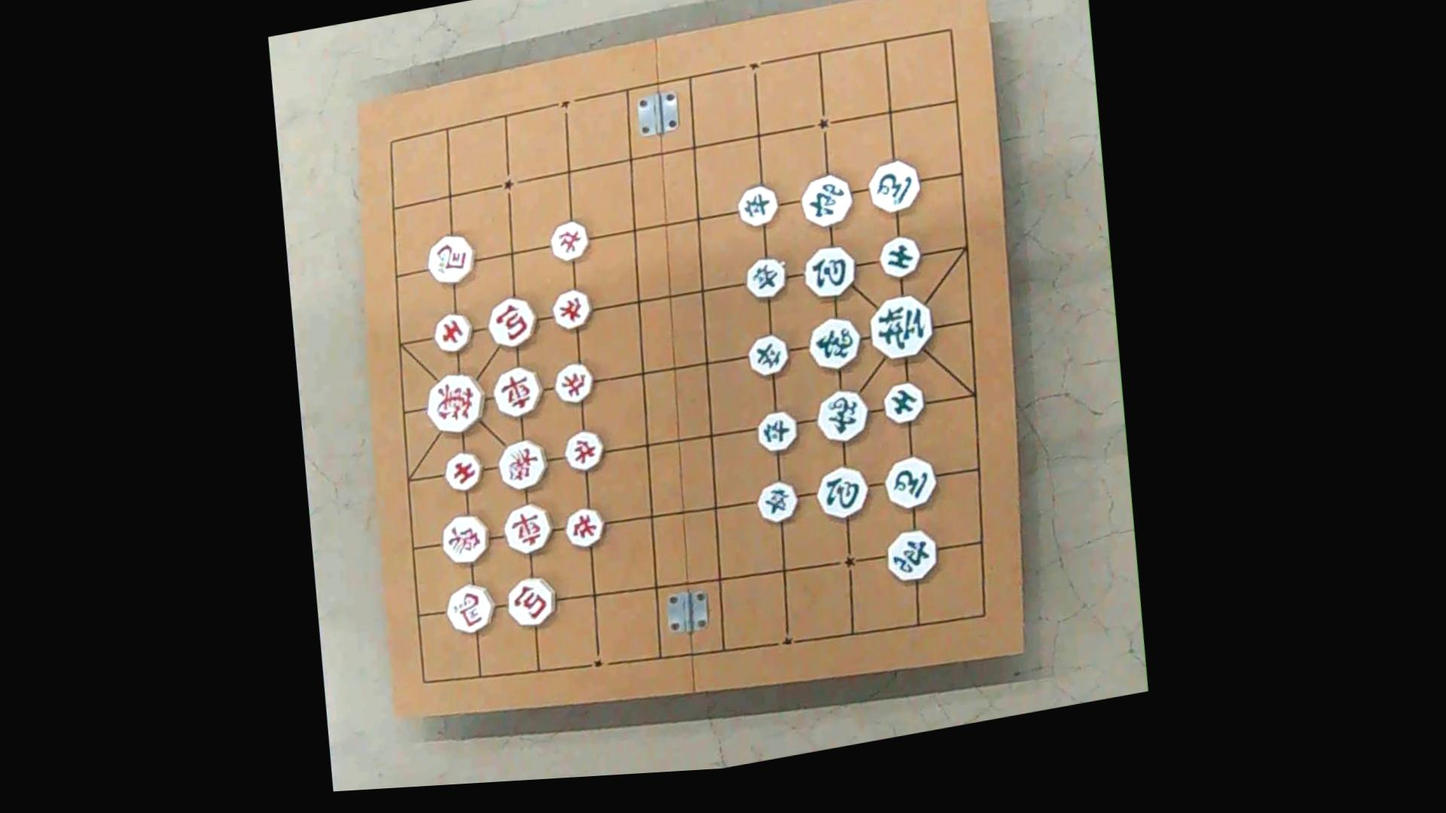cha_green: (798, 169, 856, 229), (883, 525, 940, 583)
cha_red: (490, 363, 545, 419), (502, 501, 554, 555)
jol_green: (743, 254, 789, 300), (746, 330, 791, 376), (735, 181, 780, 227), (755, 478, 800, 523), (754, 408, 800, 452)
jol_red: (563, 504, 606, 550), (550, 286, 593, 331), (552, 360, 596, 403), (563, 428, 606, 472), (548, 218, 590, 262)
ma_green: (865, 156, 923, 215), (882, 452, 938, 510)
ma_red: (444, 580, 496, 635), (425, 230, 477, 285)
po_green: (801, 242, 860, 300), (813, 462, 871, 521)
po_red: (485, 294, 539, 349), (505, 573, 559, 628)
sa_green: (877, 233, 923, 279), (881, 379, 926, 425)
sa_red: (431, 309, 474, 355), (442, 449, 484, 492)
sang_green: (805, 312, 863, 373), (813, 385, 871, 444)
sang_red: (495, 436, 549, 492), (439, 510, 491, 565)
wang_green: (865, 291, 936, 362)
wang_red: (422, 369, 487, 436)
